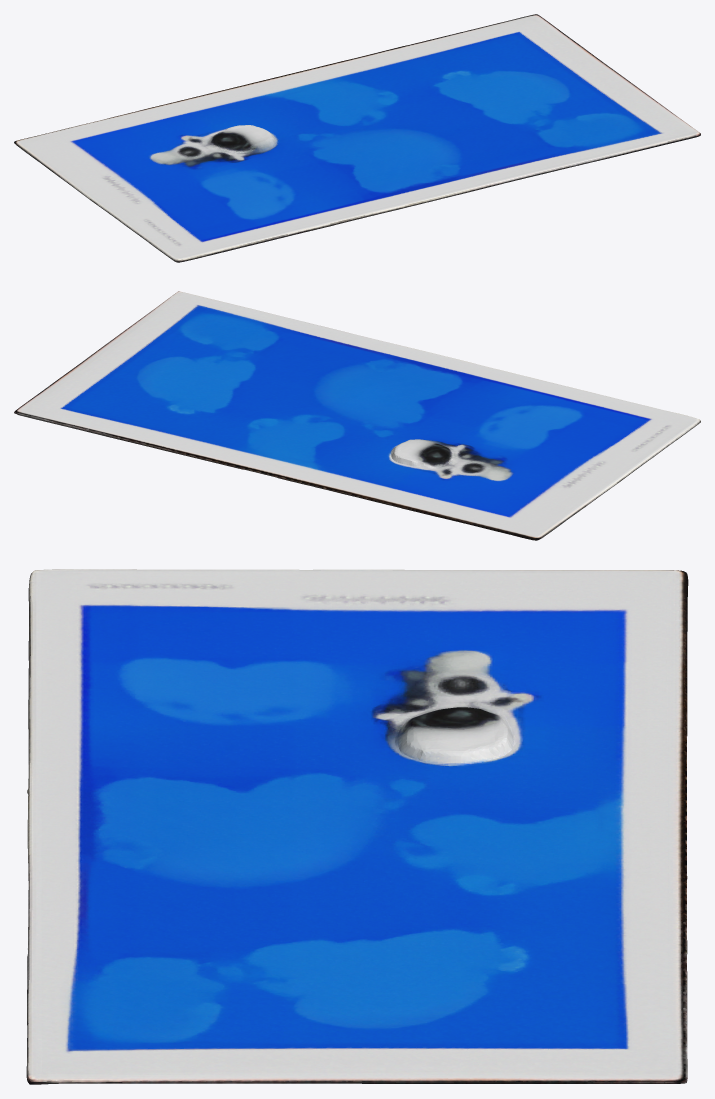
The model's file is trellis_result.glb.
3 renders of one model, top to bottom at view 1: azimuth 30°, elevation 25°; view 2: azimuth 150°, elevation 25°; view 3: azimuth 270°, elevation 25°, orthographic. The views are drawn at different scales.
Visible parts, largest first — view 1: world; view 2: world; view 3: world.
Part boxes in pixels (x1,y1,x2,y2): world: (14,14,700,262); world: (14,291,700,540); world: (26,569,688,1084).
Size of the model in its own units: 0.9992 by 0.0146 by 0.545.
Materials: 1 (1 with a texture image).
